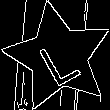L_NW: (33, 28, 84, 87)
